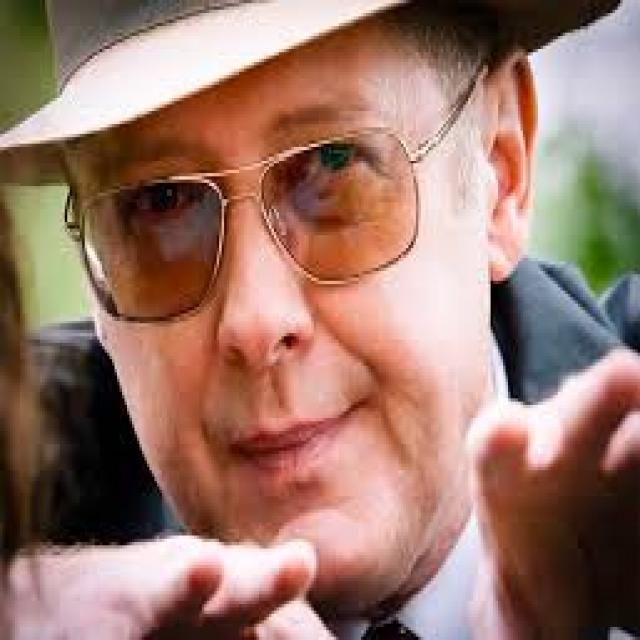Glasses: (60, 65, 493, 333)
